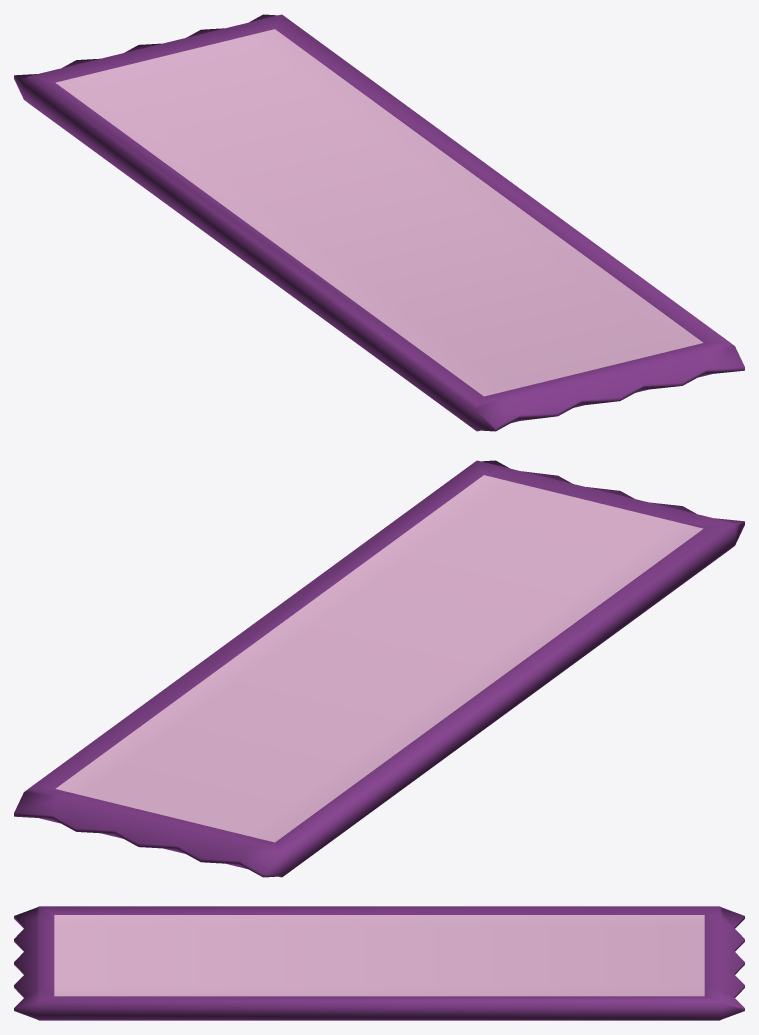
The model's file is Chocolate_Tablet.fbx.
3 views of the same model, one above another, from view 1: azimuth 30°, elevation 25°; view 2: azimuth 150°, elevation 25°; view 3: azimuth 270°, elevation 25° (orthographic). The views are drawn at different scales.
Parts seen in each view (by area): view 1: Chocolate_Tablet; view 2: Chocolate_Tablet; view 3: Chocolate_Tablet.
Part boxes in pixels (bbox=[...]): Chocolate_Tablet: bbox=[14, 14, 744, 431]; Chocolate_Tablet: bbox=[14, 460, 744, 877]; Chocolate_Tablet: bbox=[14, 906, 744, 1020].
Size of the model in its own units: 20.25 by 2.04 by 65.11.
